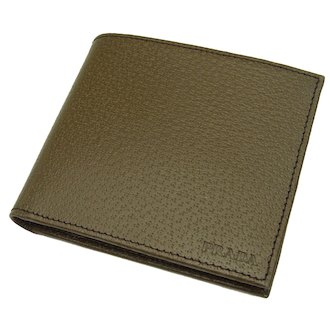monedero: (8, 31, 327, 300)
